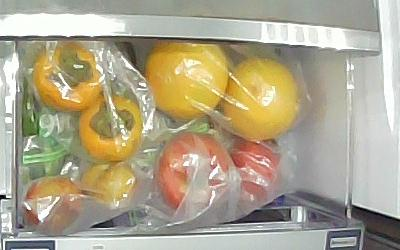apple_vinyl: (156, 131, 230, 210), (231, 137, 280, 201)
grapefruit_vinyl: (145, 41, 229, 121), (222, 58, 299, 140)
persimmon_vinyl: (33, 42, 106, 113), (79, 96, 144, 161)
prune_vinyl: (23, 174, 82, 239), (80, 163, 136, 205)
